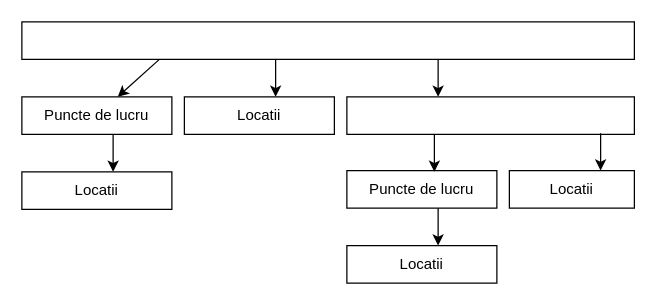
Image size: 656x305. Some labels were removed from this diagram. The shapes that lost their labels are listed below. From the top down, each one's centre as x and y in pixels, then its label:
point 327,40: Holding/Grup de firme
point 490,115: Societati comerciale
